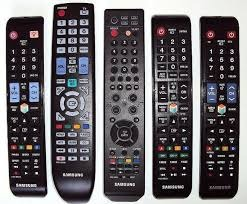remote control: (53, 0, 95, 204), (199, 15, 244, 204), (105, 9, 147, 204), (155, 18, 198, 204), (9, 22, 49, 204)
